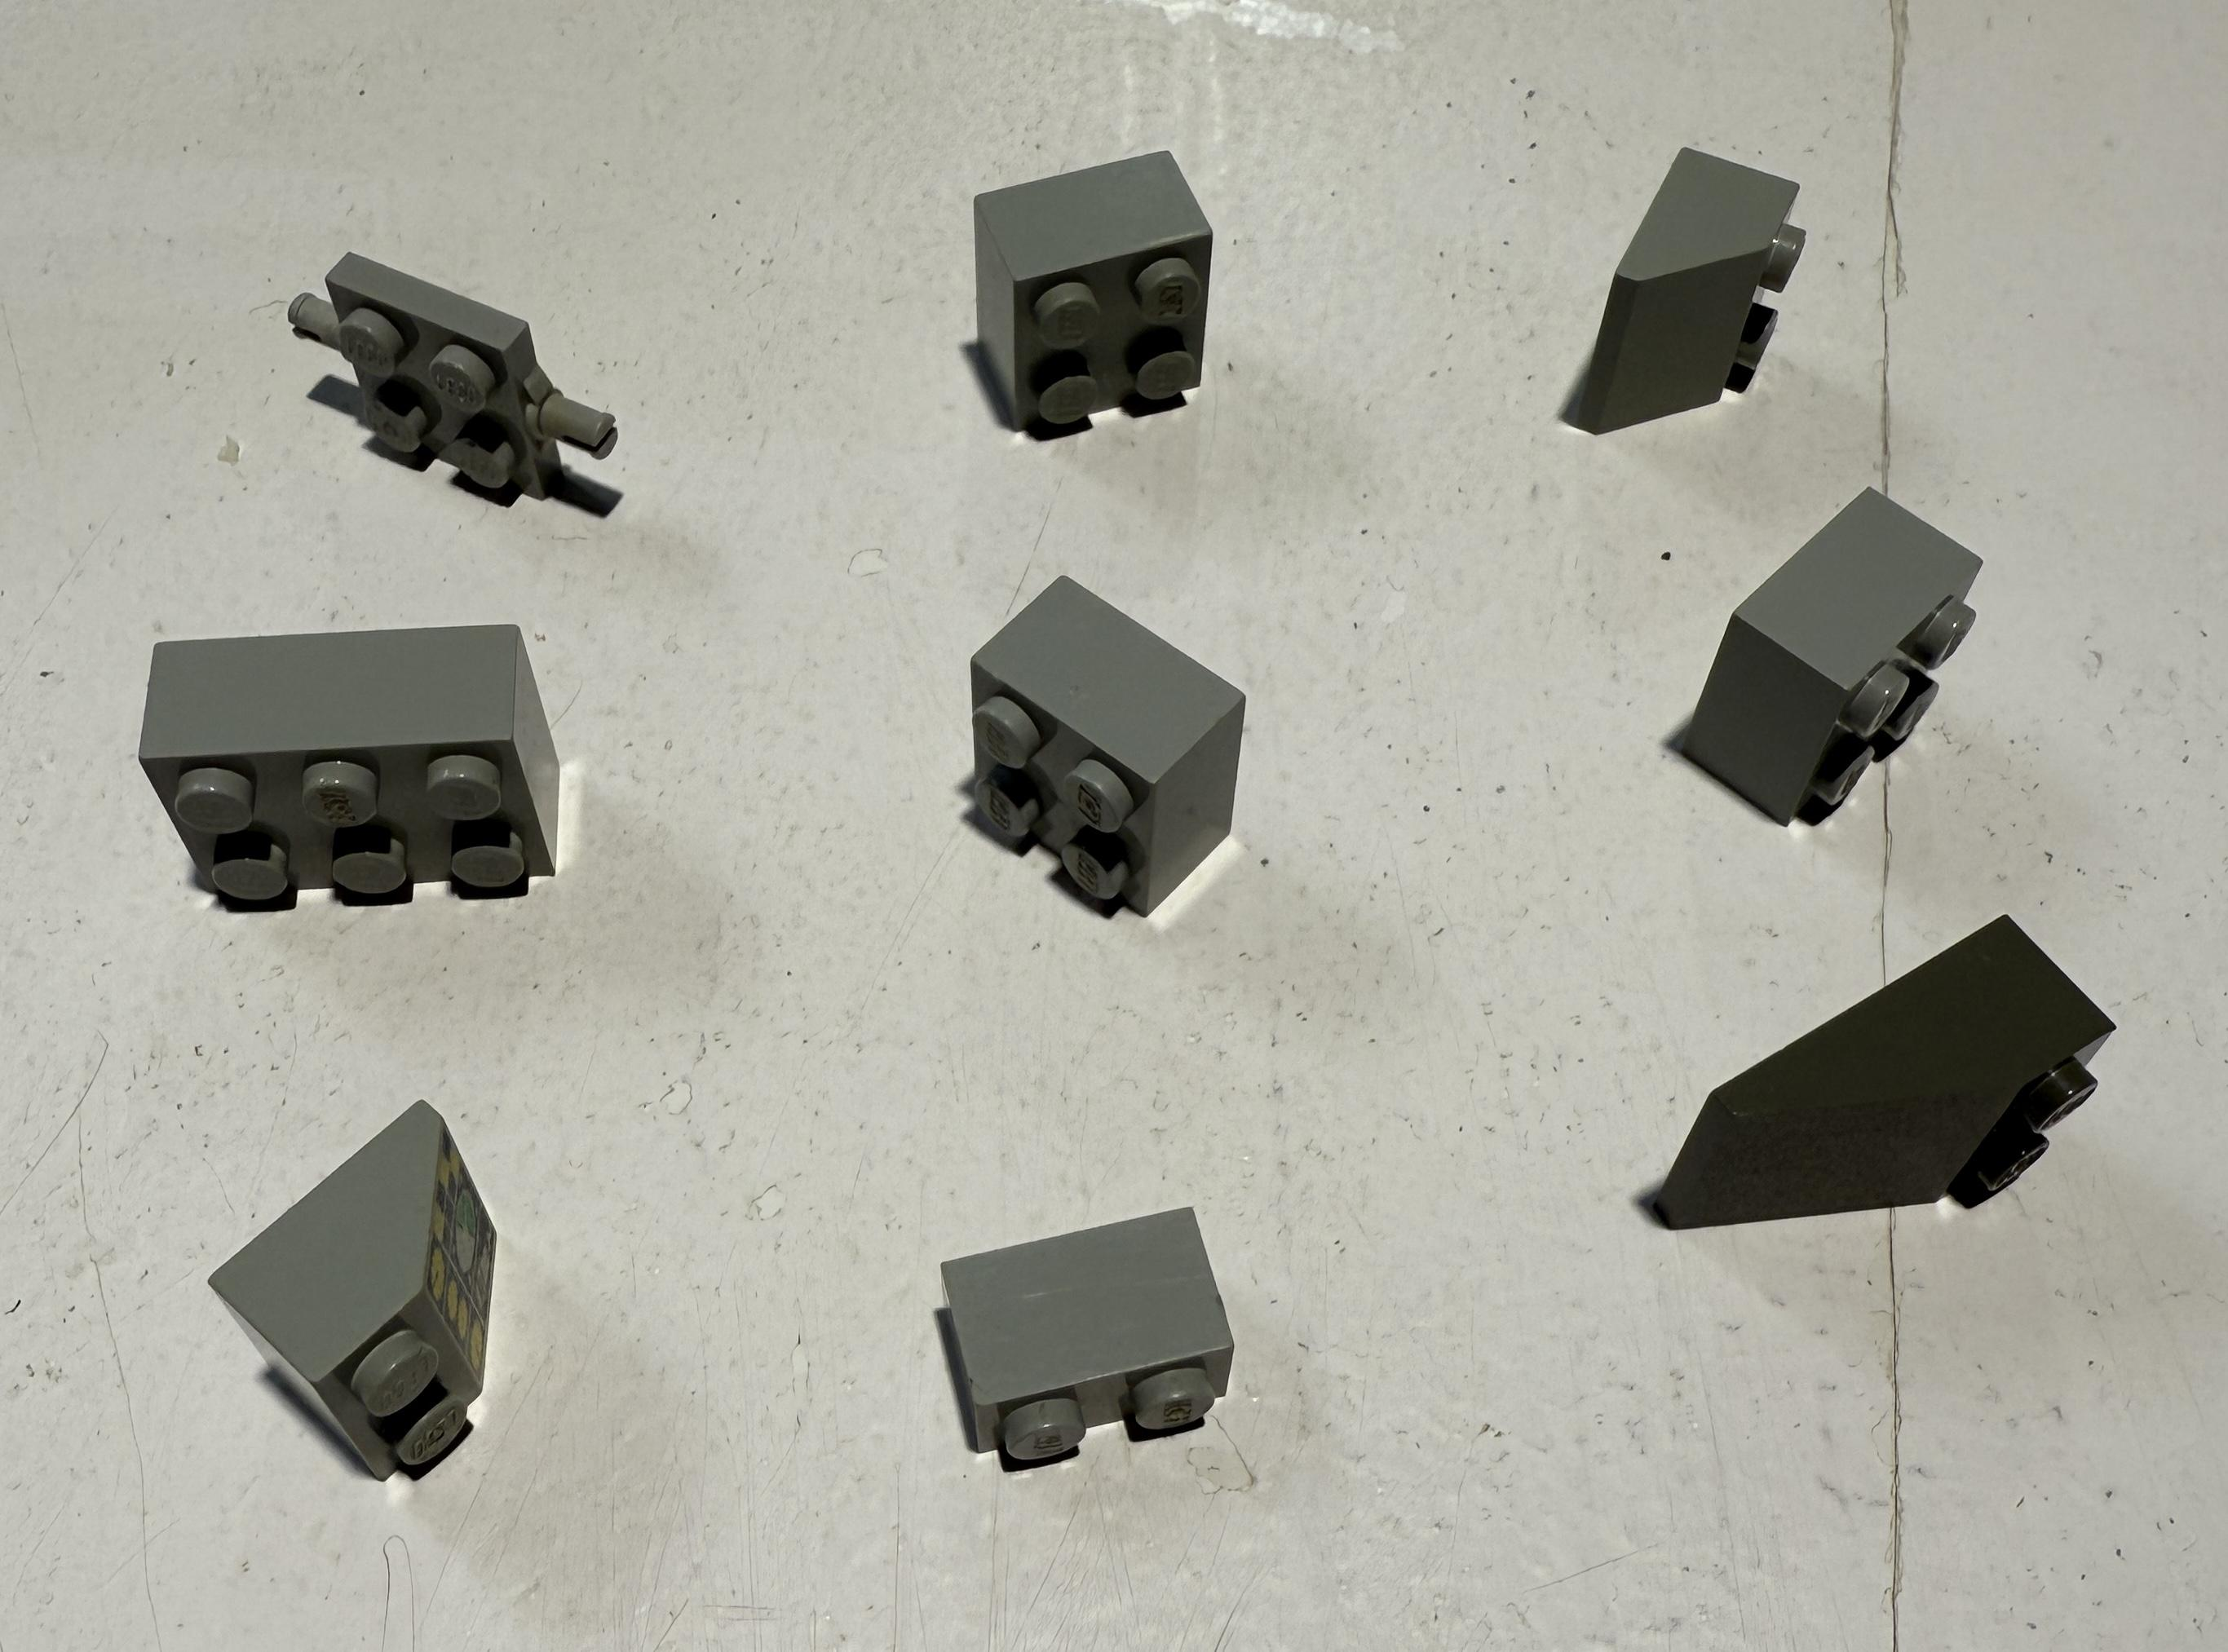Special_02: (193, 1091, 592, 1517), (1555, 128, 1853, 463)
brick_1x2: (906, 1145, 1261, 1503)
brick_2x2: (932, 547, 1275, 944), (1671, 477, 2002, 864), (944, 128, 1232, 463)
brick_2x3: (73, 574, 665, 972)
